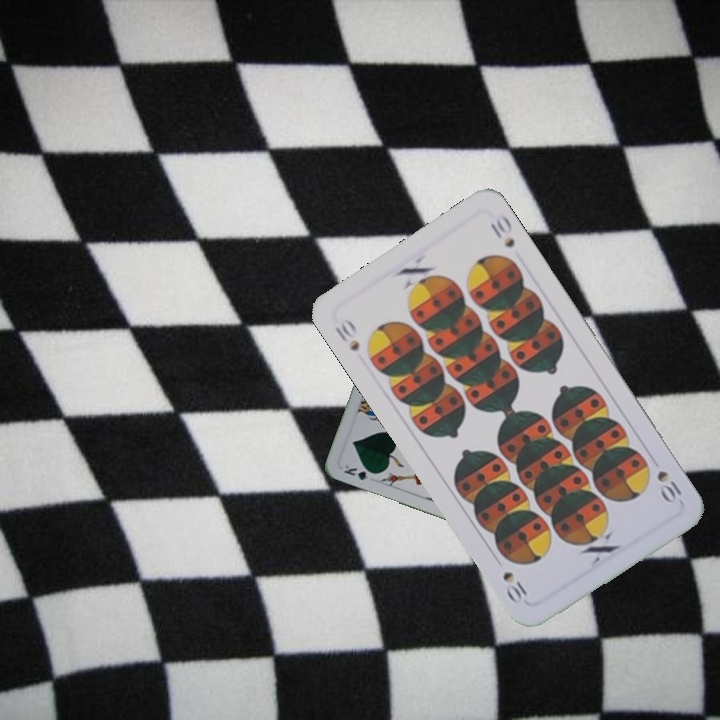GK: (340, 460, 379, 483)
S10: (330, 315, 362, 354), (653, 466, 685, 504)
